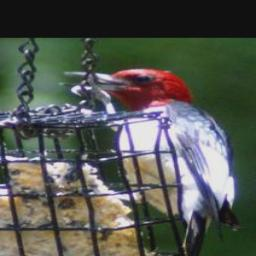Woodpecker: (54, 66, 242, 256)
